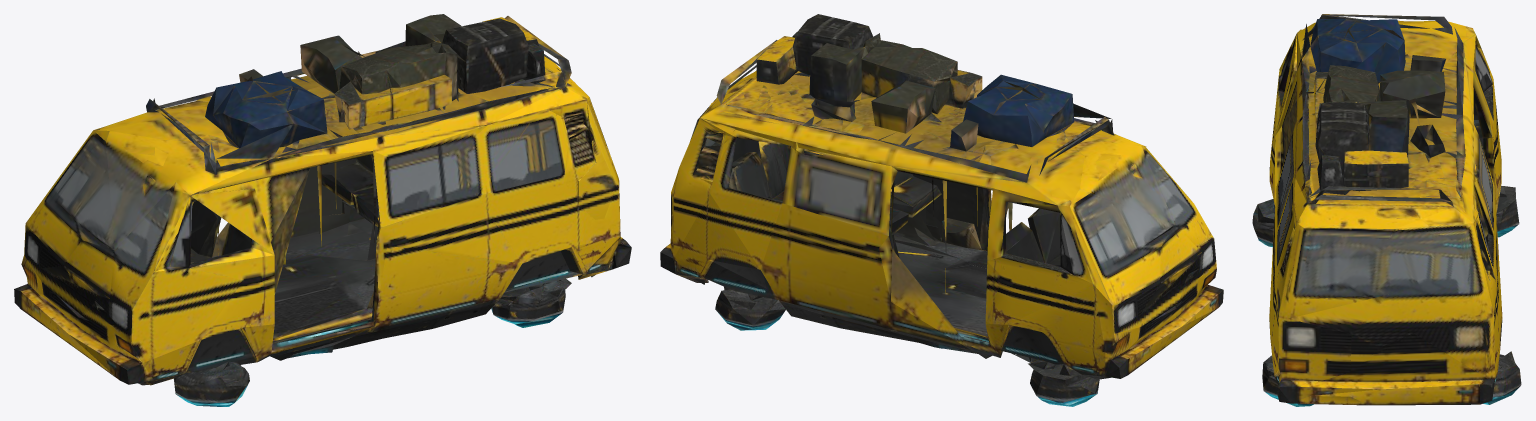
Rendered from danfo.glb.
The picture shows the model from 3 angles, left to right: view 1: azimuth 30°, elevation 25°; view 2: azimuth 150°, elevation 25°; view 3: azimuth 270°, elevation 25°; orthographic projection. The views are drawn at different scales.
Bounding box in the file's own units: 1.9 × 0.9886 × 0.8698.
1 material, 1 textured.
